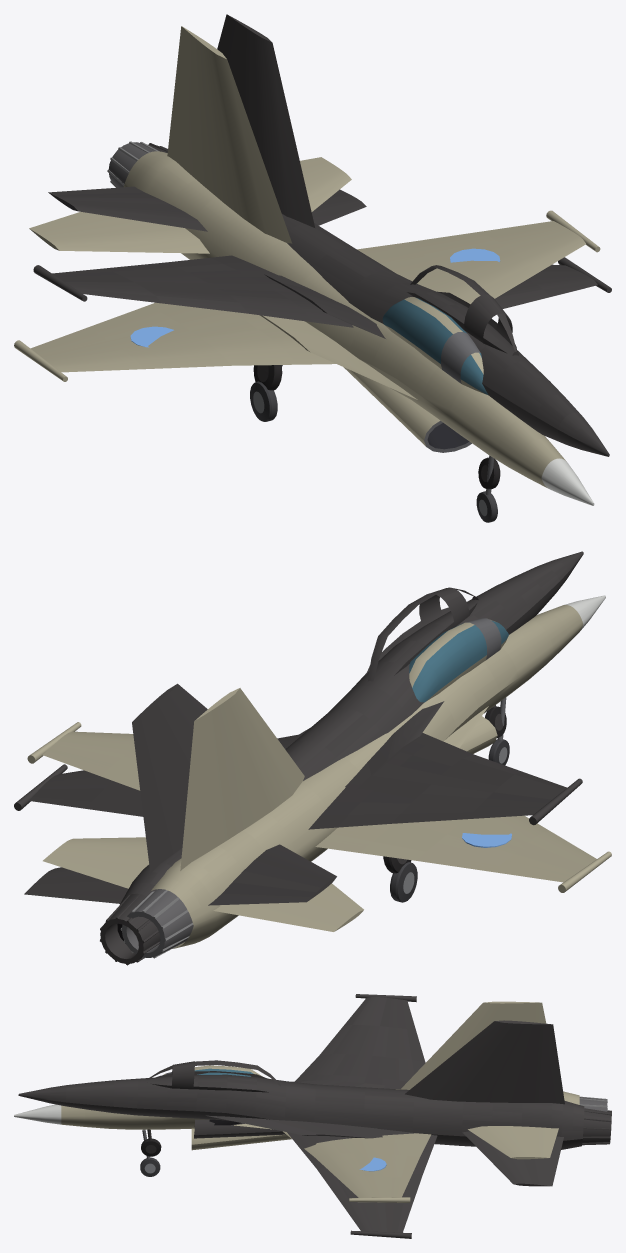
The model's file is lightFighter__f_16d_barak.glb.
The picture shows the model from 3 angles, top to bottom: view 1: azimuth 30°, elevation 25°; view 2: azimuth 150°, elevation 25°; view 3: azimuth 270°, elevation 25°; orthographic projection. The views are drawn at different scales.
Parts seen in each view (by area): view 1: Fuselage_Mesh, Wreck; view 2: Fuselage_Mesh, Wreck; view 3: Wreck, Fuselage_Mesh.
Part boxes in pixels (left/top/right/bottom): Fuselage_Mesh: left=14, top=26, right=600, bottom=522; Wreck: left=33, top=14, right=611, bottom=489; Fuselage_Mesh: left=27, top=595, right=611, bottom=958; Wreck: left=14, top=551, right=583, bottom=965; Wreck: left=18, top=994, right=611, bottom=1238; Fuselage_Mesh: left=14, top=1001, right=607, bottom=1202.
Size of what is drawn, in the model's own units: 10.4 by 4.88 by 15.21.
